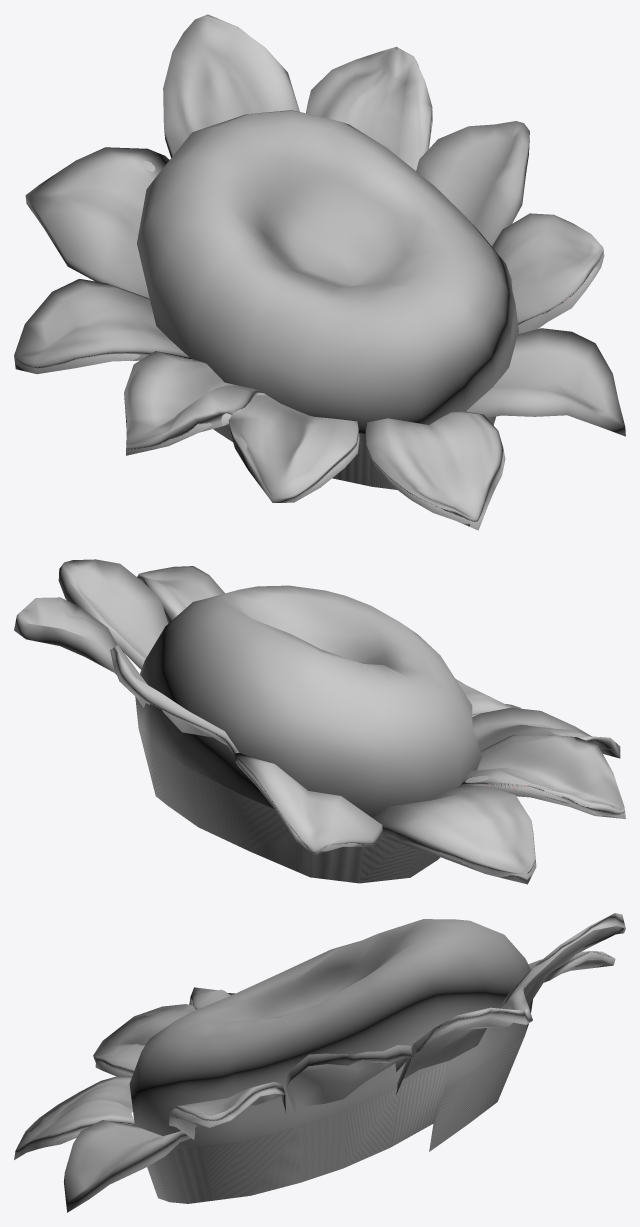
Rendered from bed_natural.FBX.
3 renders of one model, top to bottom at view 1: azimuth 30°, elevation 25°; view 2: azimuth 150°, elevation 25°; view 3: azimuth 270°, elevation 25°, orthographic. The views are drawn at different scales.
Parts seen in each view (by area): view 1: bed_natural001; view 2: bed_natural001; view 3: bed_natural001.
Part boxes in pixels (x1=…): bed_natural001: x1=14, y1=14, x2=625, y2=530; bed_natural001: x1=14, y1=559, x2=625, y2=884; bed_natural001: x1=14, y1=913, x2=625, y2=1212.
Size of the model in its own units: 5.4 by 3.24 by 6.28.
